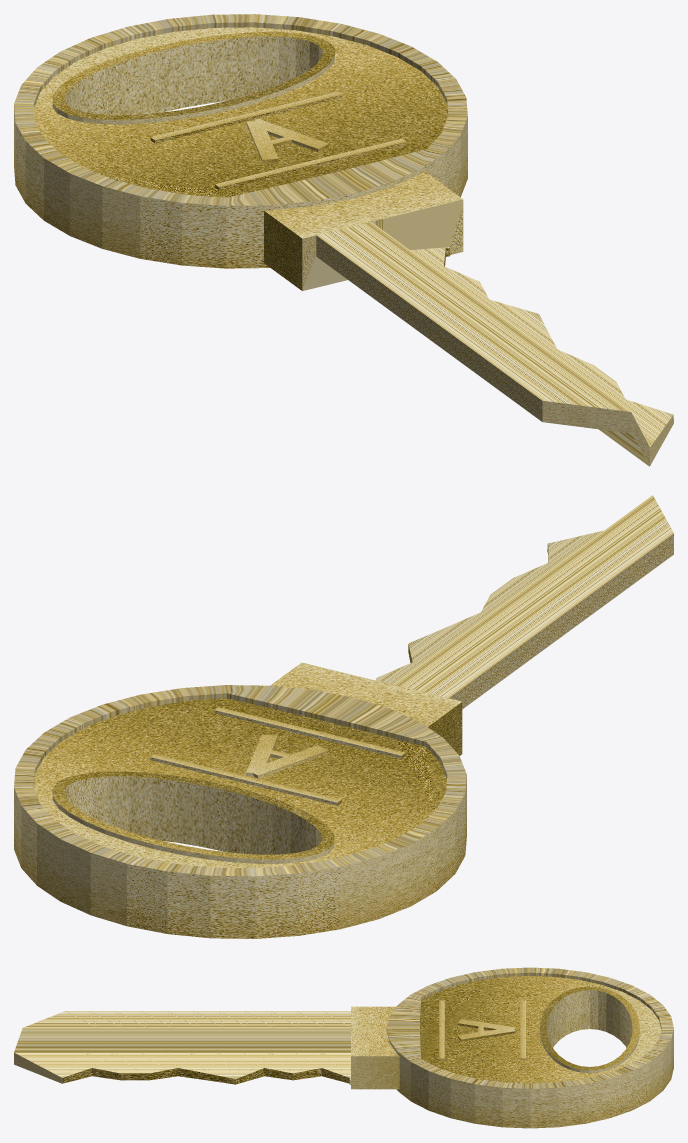
The model's file is key.obj.
3 renders of one model, top to bottom at view 1: azimuth 30°, elevation 25°; view 2: azimuth 150°, elevation 25°; view 3: azimuth 270°, elevation 25°, orthographic. The views are drawn at different scales.
Visible parts, largest first — view 1: Cylinder.001; view 2: Cylinder.001; view 3: Cylinder.001.
Boxes of the visible parts, bbox=[...] form: Cylinder.001: bbox=[14, 14, 673, 466]; Cylinder.001: bbox=[14, 495, 673, 938]; Cylinder.001: bbox=[14, 967, 673, 1128].
Size of the model in its own units: 2 by 0.3042 by 4.59.
Materials: 1 (1 with a texture image).
